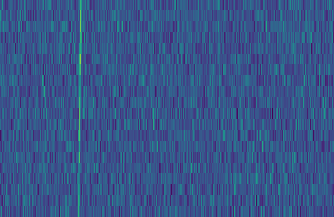signal: (71, 0, 82, 217)
